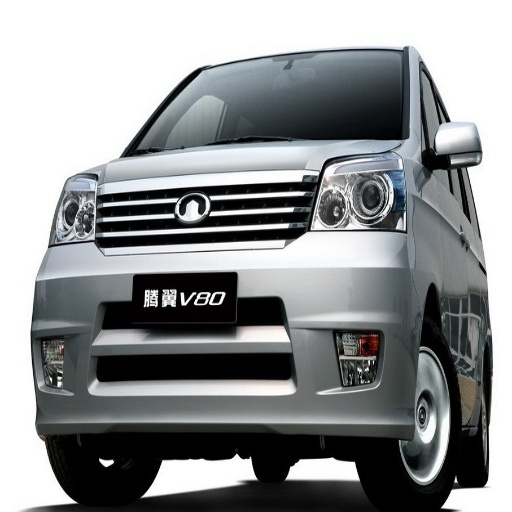front_bumper: (37, 170, 412, 437)
front_glass: (124, 54, 407, 155)
front_left_door: (417, 69, 465, 226), (446, 247, 473, 316)
front_left_light: (314, 158, 406, 229)
front_right_light: (52, 173, 96, 240)
